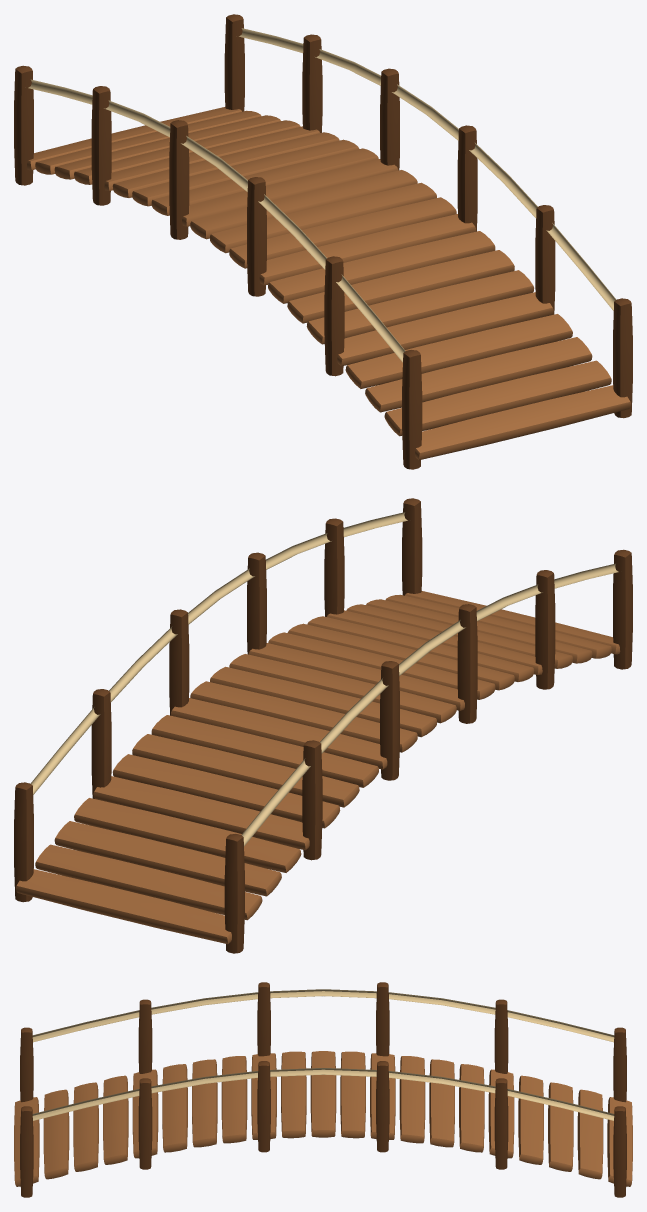
File: wooden_bridge.glb
The picture shows the model from 3 angles, top to bottom: view 1: azimuth 30°, elevation 25°; view 2: azimuth 150°, elevation 25°; view 3: azimuth 270°, elevation 25°; orthographic projection. The views are drawn at different scales.
Parts seen in each view (by area): view 1: WoodenBridge; view 2: WoodenBridge; view 3: WoodenBridge.
Boxes of the visible parts, x1,y1,x2,y2 form: WoodenBridge: [14, 14, 632, 469]; WoodenBridge: [14, 498, 632, 953]; WoodenBridge: [14, 982, 632, 1197].
Bounding box in the file's own units: 2.96 × 2.19 × 9.18.
